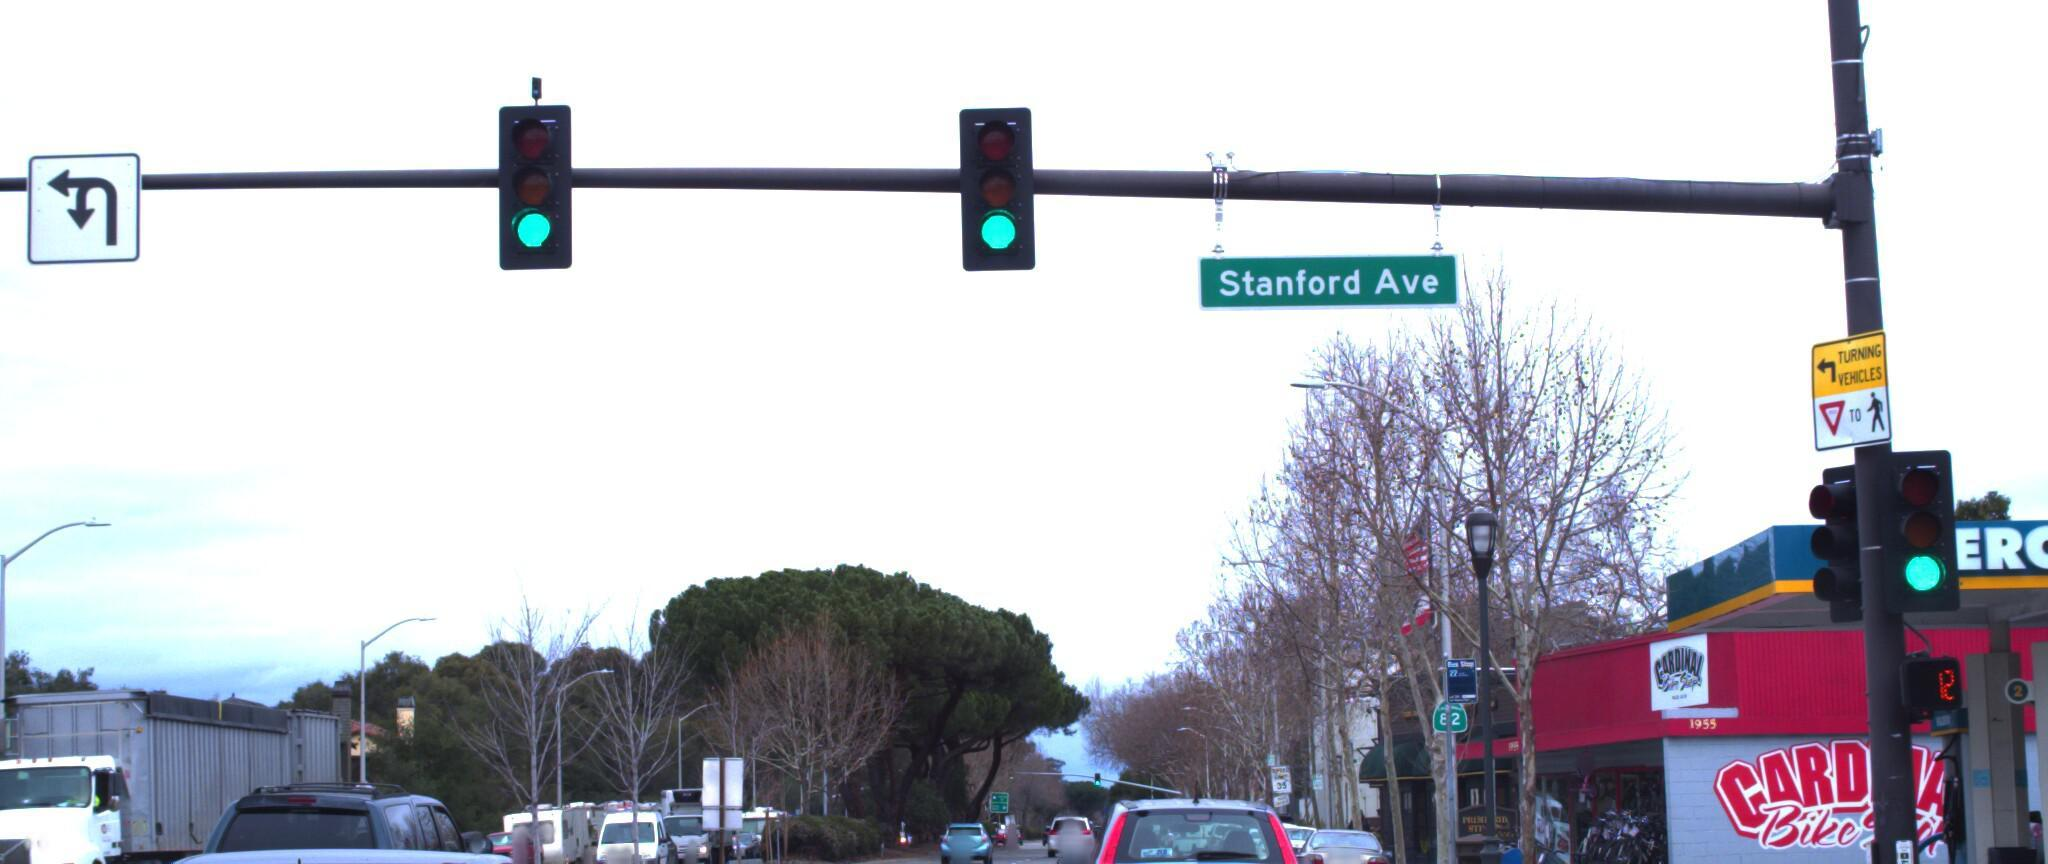bicycle: (1510, 831, 1604, 864)
car: (136, 771, 528, 864), (0, 826, 671, 864), (1055, 782, 1337, 864), (564, 790, 662, 864), (0, 769, 71, 864), (1280, 818, 1388, 864)
truck: (0, 660, 364, 864)
